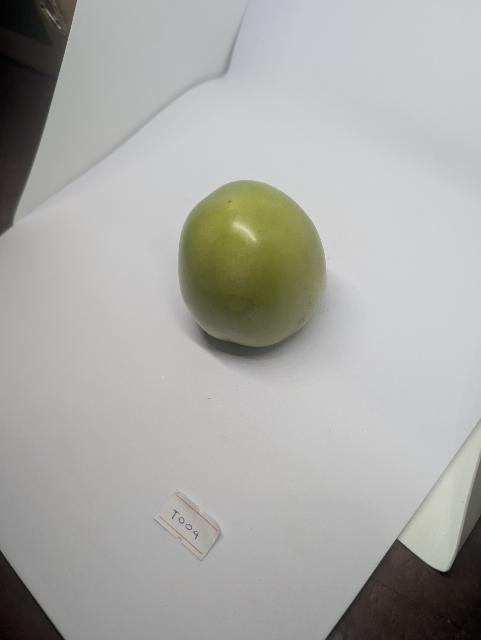green: (177, 179, 331, 351)
